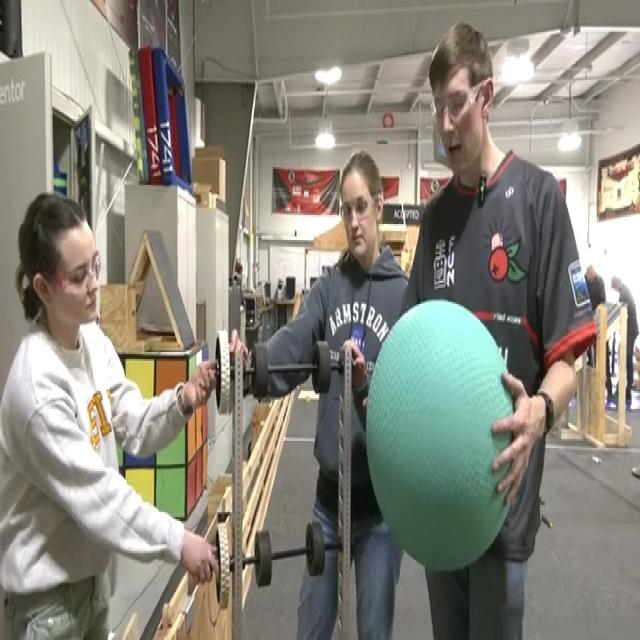Algae: (364, 295, 516, 573)
